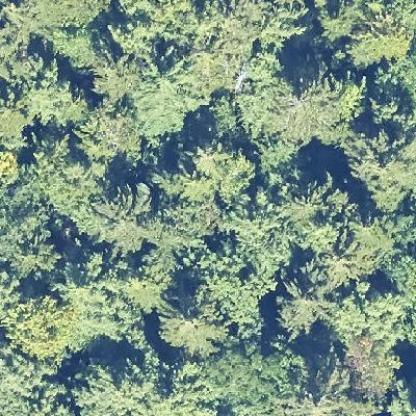tree-top: (204, 339, 302, 413), (70, 356, 168, 415), (86, 183, 164, 251), (278, 68, 347, 144), (2, 289, 74, 361), (75, 96, 147, 163), (337, 331, 402, 397), (159, 290, 229, 350), (190, 138, 258, 197), (25, 62, 80, 127), (358, 3, 415, 63), (272, 278, 334, 328), (338, 212, 393, 266), (89, 49, 144, 102), (42, 22, 94, 65)
